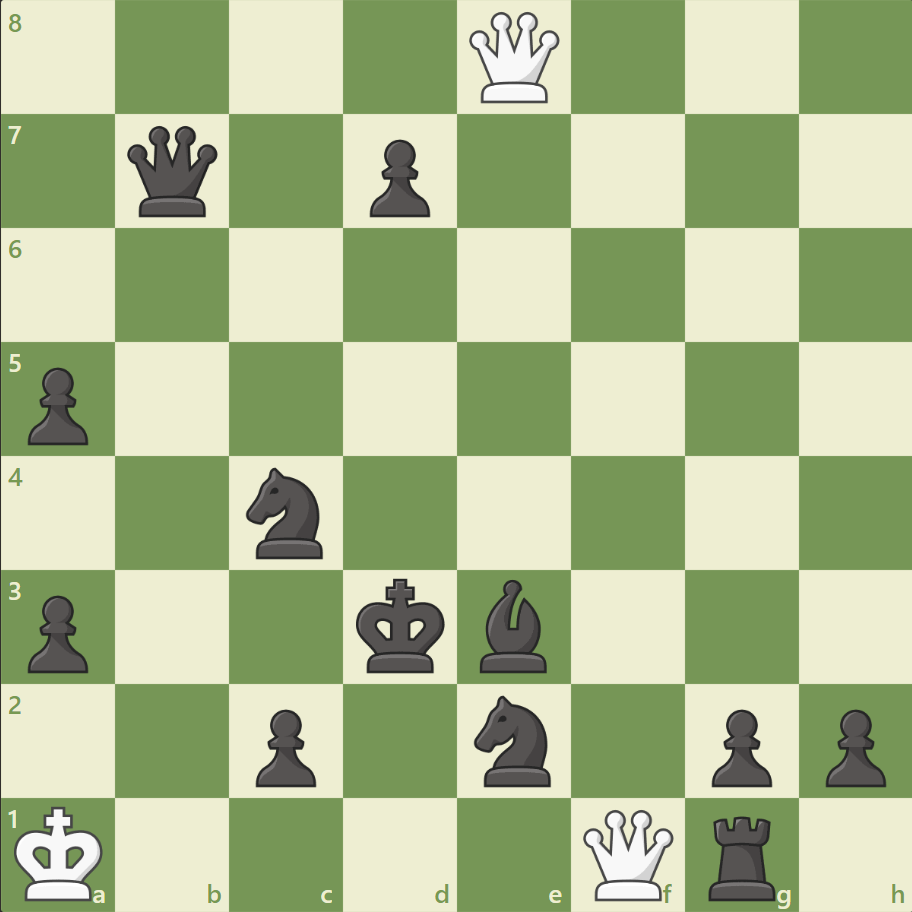K: (11, 798, 111, 906)
Q: (464, 9, 563, 108), (578, 804, 677, 903)
b: (471, 574, 555, 676)
k: (351, 571, 451, 679)
n: (238, 461, 335, 564), (465, 688, 562, 791)
p: (20, 359, 95, 450), (20, 586, 95, 677), (247, 700, 322, 791), (701, 700, 776, 791), (361, 132, 435, 223), (815, 700, 889, 791)
q: (124, 122, 223, 222)
r: (700, 806, 783, 904)
